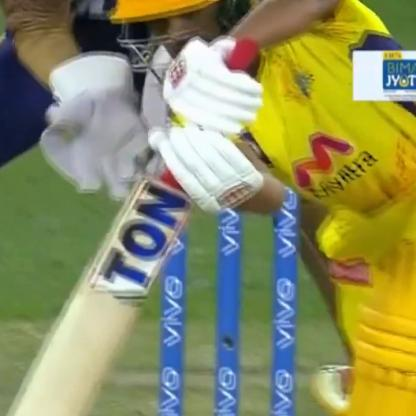bat: (0, 55, 241, 415)
